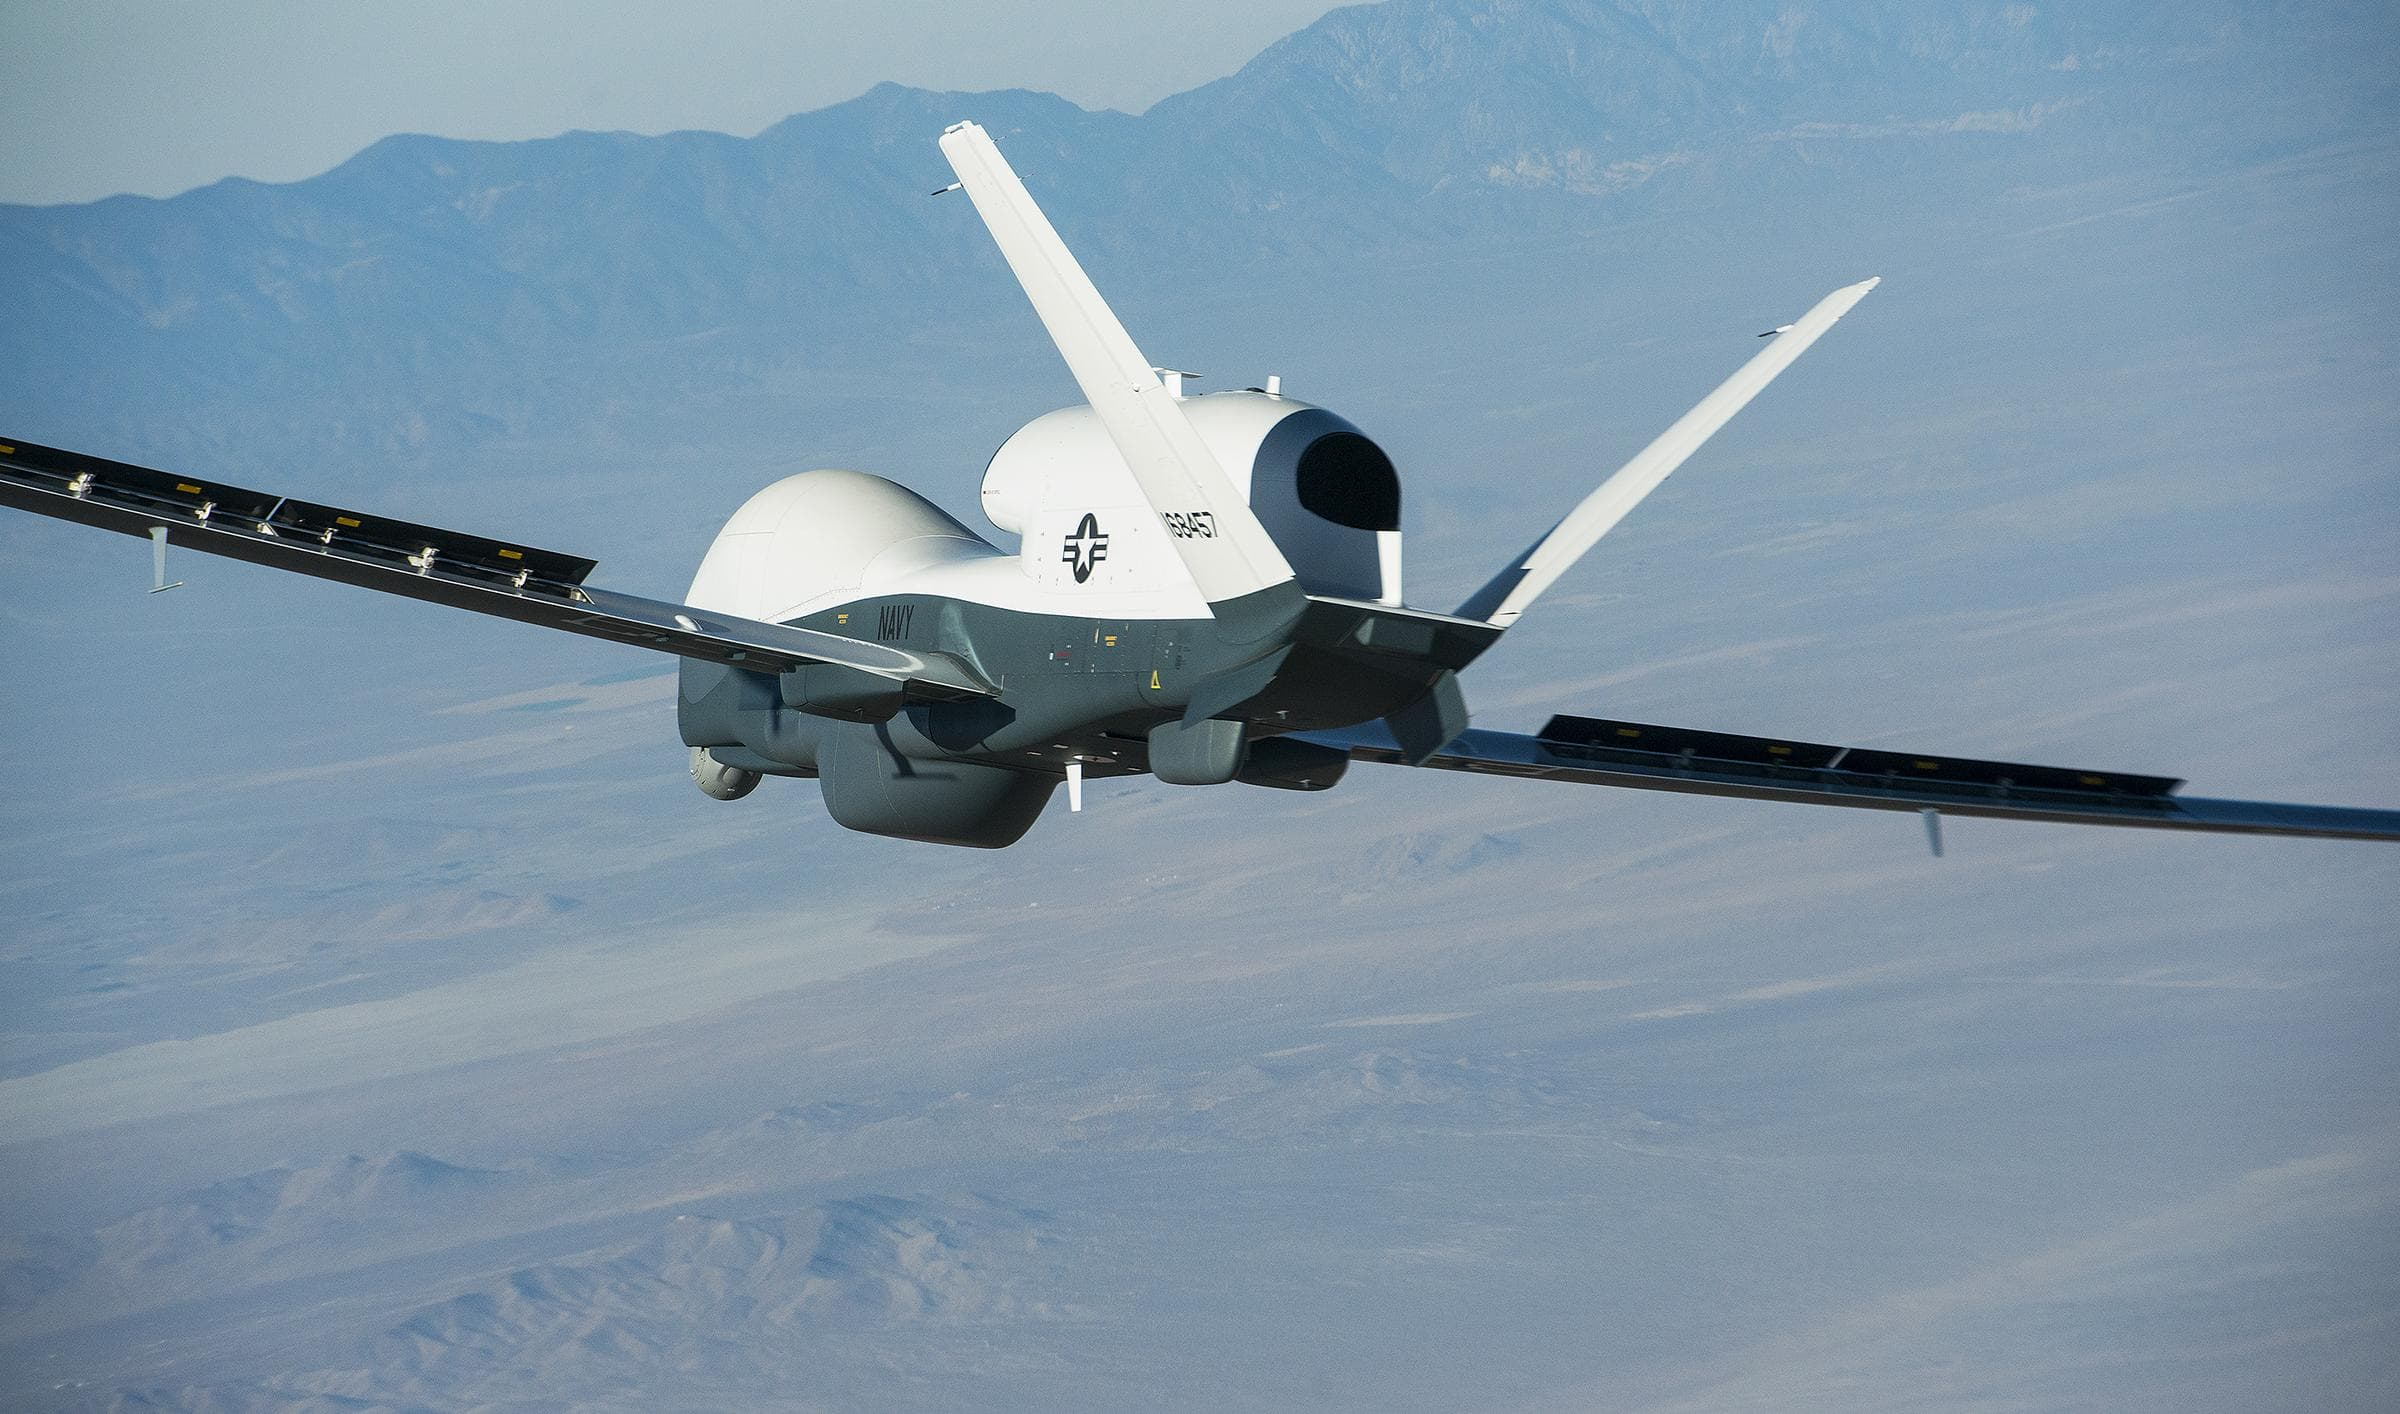drone: (2, 114, 2400, 869)
